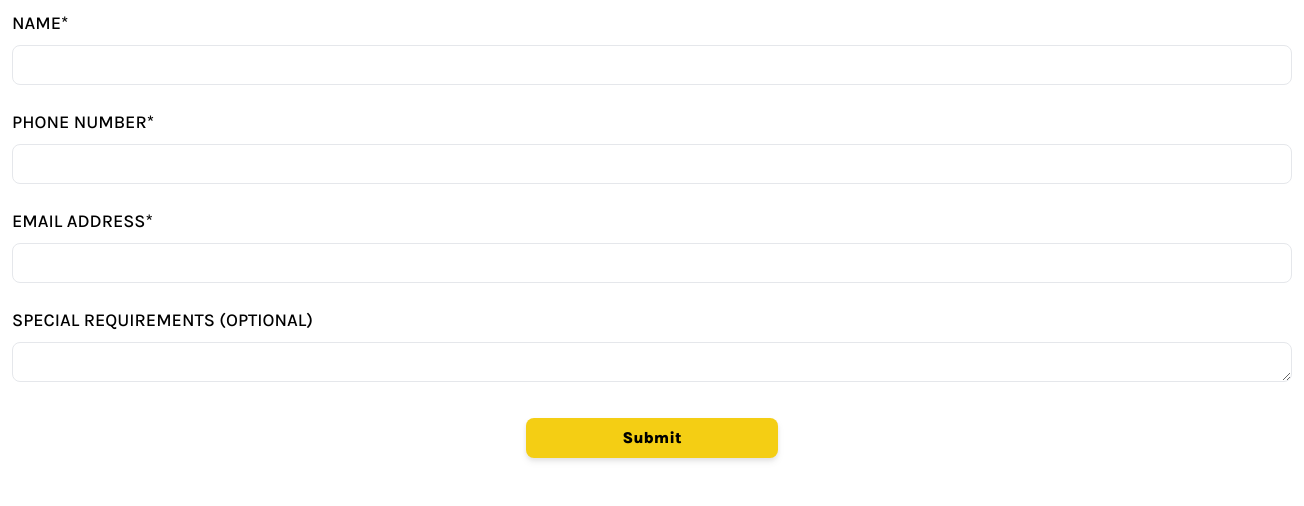
Test case: BookingForm validation › shows error for name with special characters
This screenshot has width=1304, height=506.
Type "John$Doe" into the field labelled "Name*" at (652, 65), box [12,45,1292,85]
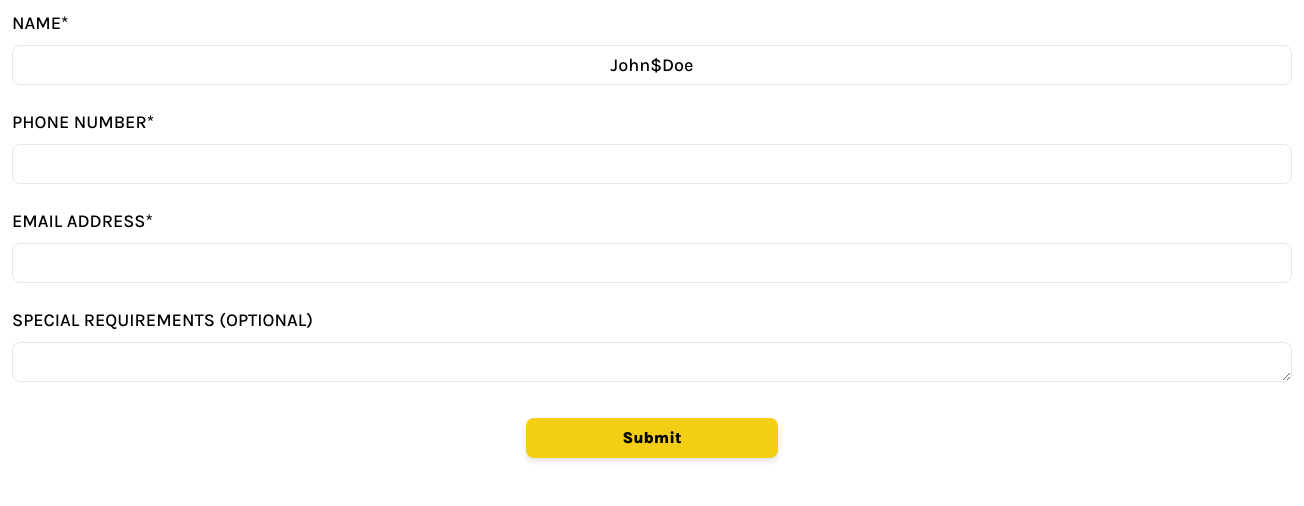
Leave the field labelled "Name*", box [12,45,1292,85]
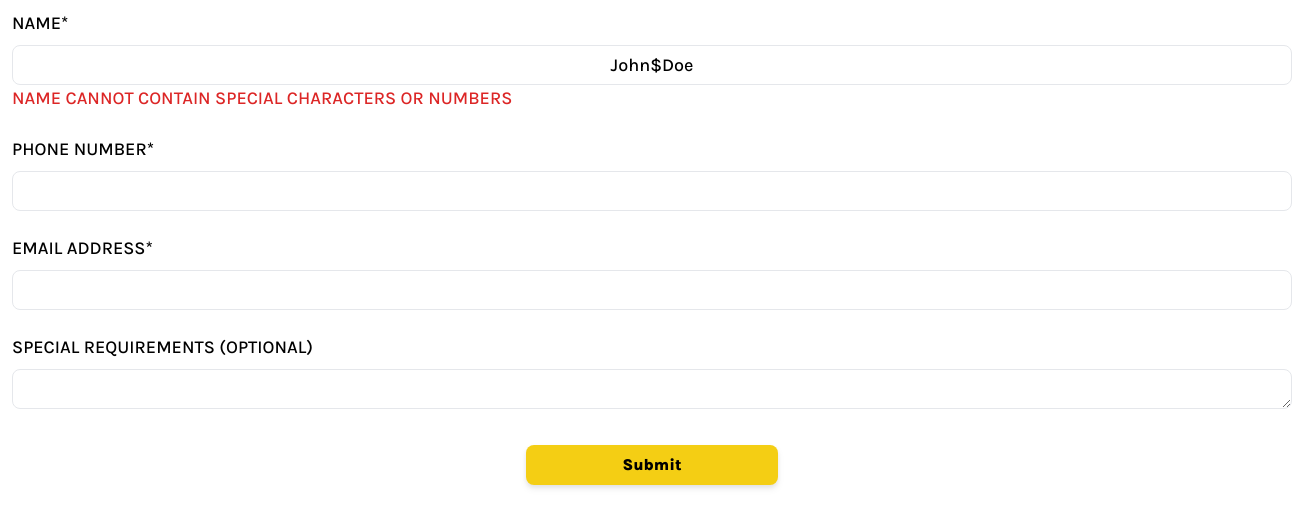
Check: the text "Name cannot contain special characters or numbers" is shown, box [12,87,512,109]
